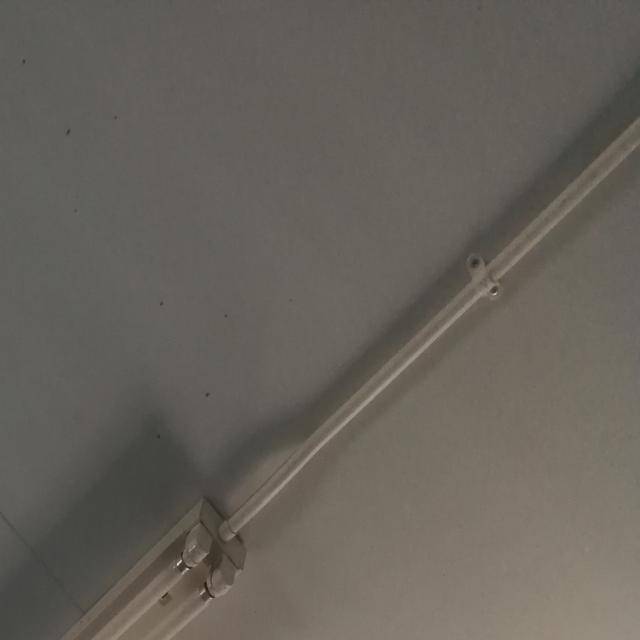fluorescent tube: (0, 488, 271, 640)
